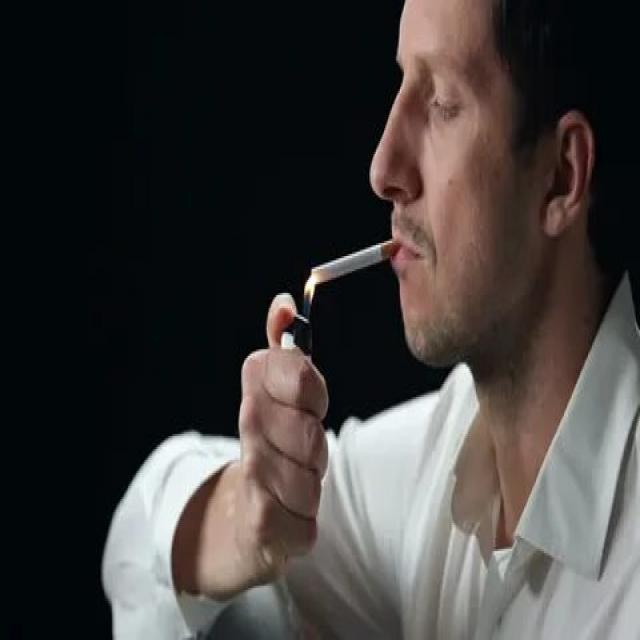smoke: (309, 234, 402, 286)
